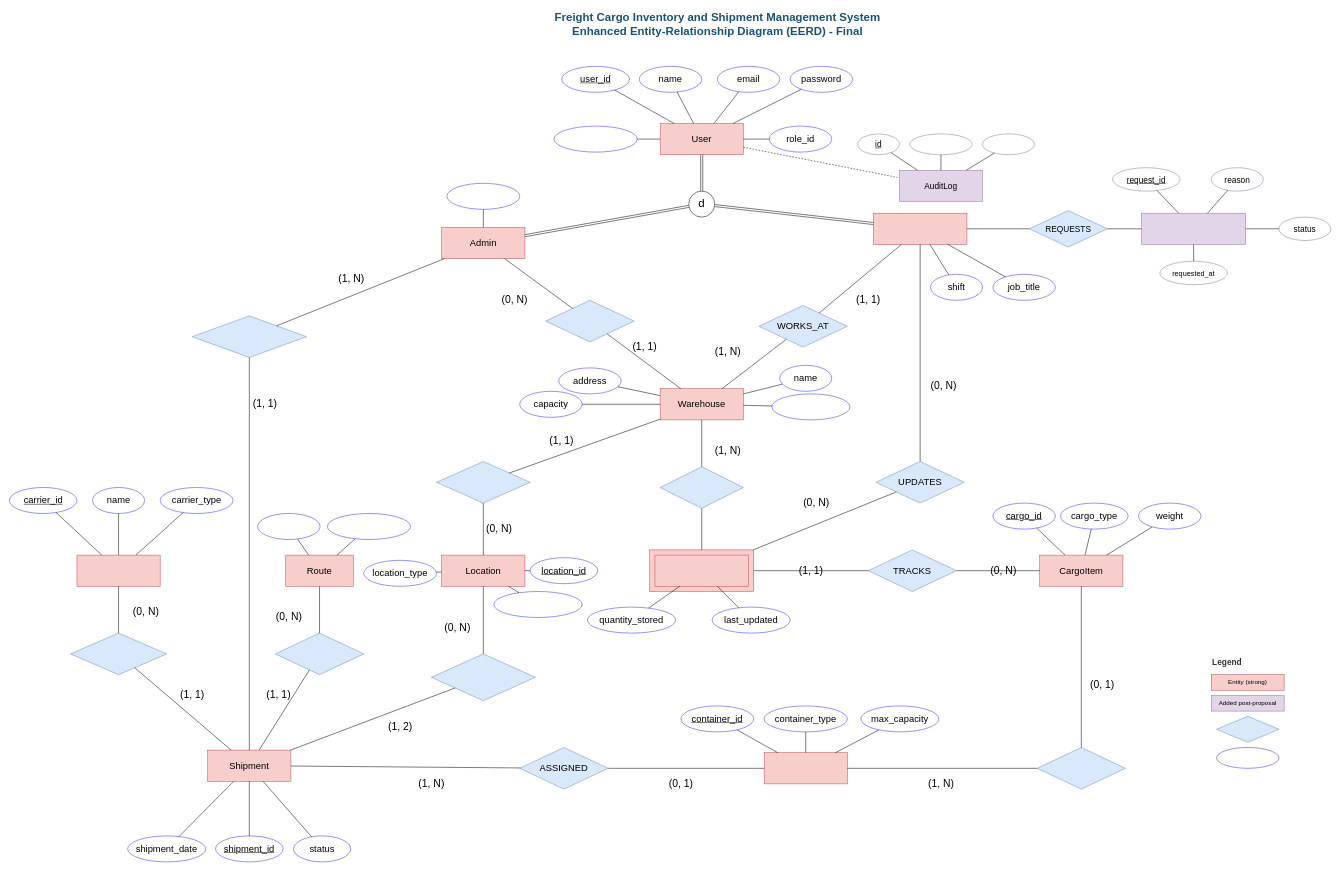
This 1340x871 diagram has some shape labels left out. The shapes that lost their labels are listed below. From the top down, each one's centre as x and y in pixels, then its label:
pixel 595 139: account_status
pixel 940 144: action_type
pixel 1008 144: payload
pixel 483 196: admin_level
pixel 920 228: Warehouse Staff
pixel 1193 228: AdminAccessRequest
pixel 249 336: CREATES
pixel 589 321: MANAGES
pixel 810 406: warehouse_id
pixel 483 482: LOCATED_AT
pixel 701 487: STORES
pixel 288 526: route_id
pixel 369 526: estimated_time
pixel 118 570: Carrier
pixel 701 570: InventoryRecord
pixel 537 604: location_name
pixel 118 654: HANDLED_BY
pixel 319 654: USES
pixel 483 677: DELIVERED TO/FROM
pixel 1247 729: Relationship
pixel 805 768: Container
pixel 1081 768: CONTAINS
pixel 1247 757: Attribute
